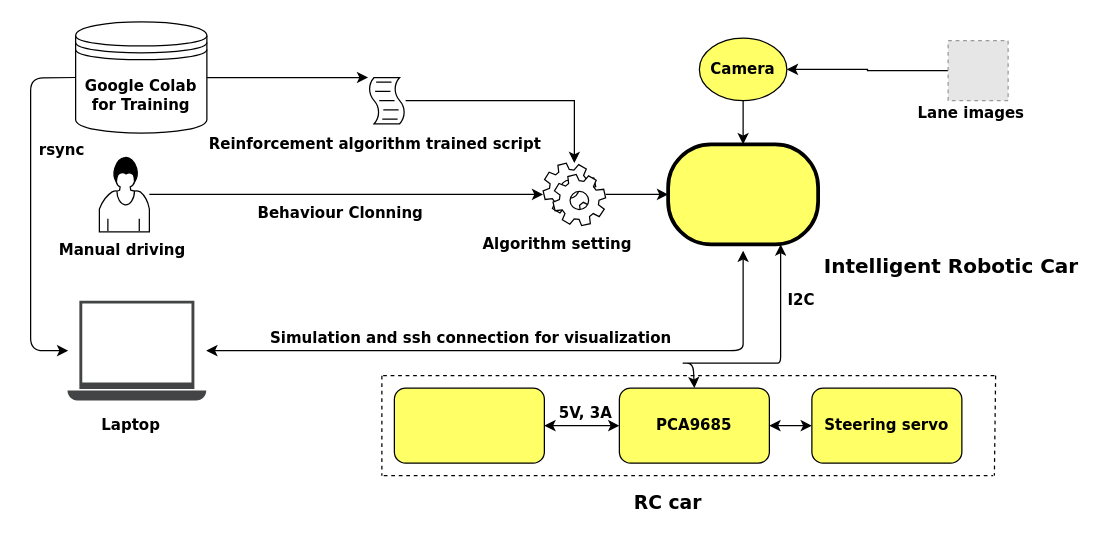
This 1119x536 diagram has some shape labels left out. Grey dashed boxes stand in for pictures. The centre of each missing label's shape, as x and y in pixels:
"ESC" goes at point 468,425.
"Raspberry PI 3B" goes at point 742,194.
